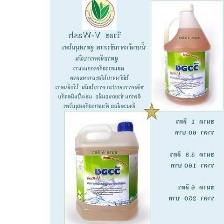cleaning_solution: (71, 118, 142, 223), (160, 1, 214, 106)
